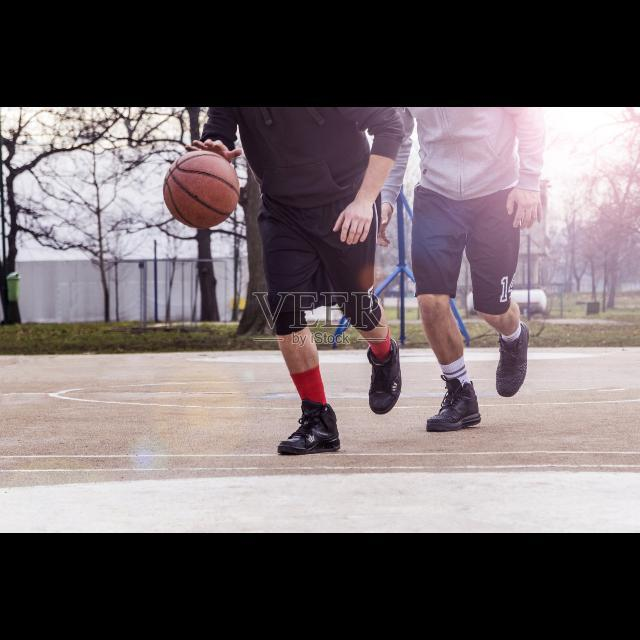basketball: (163, 152, 240, 228)
